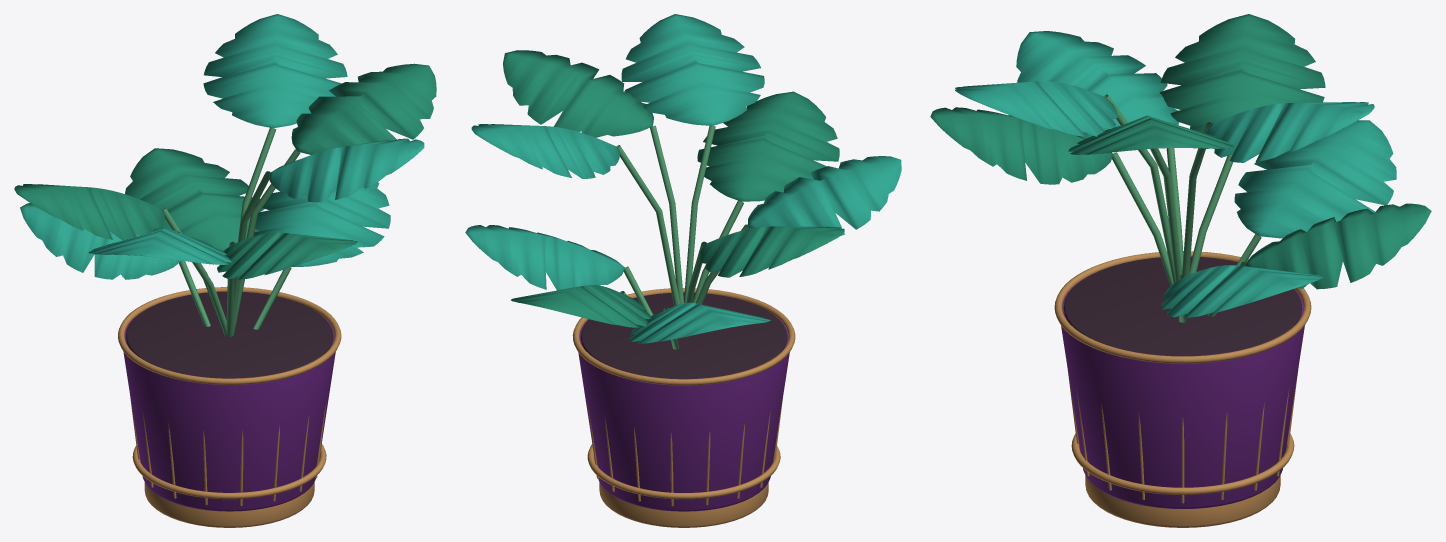
Rendered from monstera.glb.
The picture shows the model from 3 angles, left to right: view 1: azimuth 30°, elevation 25°; view 2: azimuth 150°, elevation 25°; view 3: azimuth 270°, elevation 25°; orthographic projection. The views are drawn at different scales.
Visible parts, largest first — view 1: Fluted plum planter, Soil, Split monstera leaf.008, Split monstera leaf.005, Split monstera leaf.003, Split monstera leaf, Split monstera leaf.002, Split monstera leaf.001, Split monstera leaf.006, Split monstera leaf.007, Planter rim, Planter foot (+7 smaller); view 2: Fluted plum planter, Split monstera leaf.002, Split monstera leaf.007, Soil, Split monstera leaf.005, Split monstera leaf.004, Split monstera leaf, Split monstera leaf.008, Split monstera leaf.001, Split monstera leaf.003, Split monstera leaf.006, Planter foot (+5 smaller); view 3: Fluted plum planter, Soil, Split monstera leaf.006, Split monstera leaf.001, Split monstera leaf.003, Split monstera leaf.004, Split monstera leaf.007, Split monstera leaf.008, Split monstera leaf.002, Split monstera leaf, Planter foot, Planter rim (+8 smaller).
Boxes of the visible parts, bbox=[...] form: Fluted plum planter: bbox=[123, 315, 335, 511]; Soil: bbox=[126, 291, 333, 378]; Split monstera leaf.008: bbox=[203, 14, 347, 128]; Split monstera leaf.005: bbox=[291, 63, 436, 154]; Split monstera leaf.003: bbox=[125, 148, 264, 251]; Split monstera leaf: bbox=[250, 182, 390, 266]; Split monstera leaf.002: bbox=[268, 138, 424, 202]; Split monstera leaf.001: bbox=[14, 184, 164, 240]; Split monstera leaf.006: bbox=[20, 203, 181, 279]; Split monstera leaf.007: bbox=[217, 232, 357, 279]; Planter rim: bbox=[118, 287, 341, 384]; Planter foot: bbox=[144, 482, 314, 527]; Fluted plum planter: bbox=[578, 317, 789, 511]; Split monstera leaf.002: bbox=[621, 14, 764, 125]; Split monstera leaf.007: bbox=[697, 91, 839, 201]; Soil: bbox=[580, 292, 787, 379]; Split monstera leaf.005: bbox=[503, 50, 653, 137]; Split monstera leaf.004: bbox=[747, 156, 901, 235]; Split monstera leaf: bbox=[465, 225, 625, 290]; Split monstera leaf.008: bbox=[471, 124, 619, 178]; Split monstera leaf.001: bbox=[699, 226, 844, 277]; Split monstera leaf.003: bbox=[511, 285, 650, 327]; Split monstera leaf.006: bbox=[629, 302, 770, 343]; Planter foot: bbox=[599, 482, 768, 527]; Fluted plum planter: bbox=[1061, 283, 1304, 508]; Soil: bbox=[1063, 256, 1301, 356]; Split monstera leaf.006: bbox=[1234, 120, 1396, 238]; Split monstera leaf.001: bbox=[1159, 14, 1325, 132]; Split monstera leaf.003: bbox=[1245, 203, 1431, 289]; Split monstera leaf.004: bbox=[1016, 31, 1179, 138]; Split monstera leaf.007: bbox=[930, 107, 1113, 184]; Split monstera leaf.008: bbox=[1205, 102, 1374, 162]; Split monstera leaf.002: bbox=[955, 81, 1117, 136]; Split monstera leaf: bbox=[1161, 265, 1323, 317]; Planter foot: bbox=[1085, 475, 1280, 527]; Planter rim: bbox=[1054, 251, 1311, 363].
Bounding box in the file's own units: 1.22 × 1.21 × 1.23.
